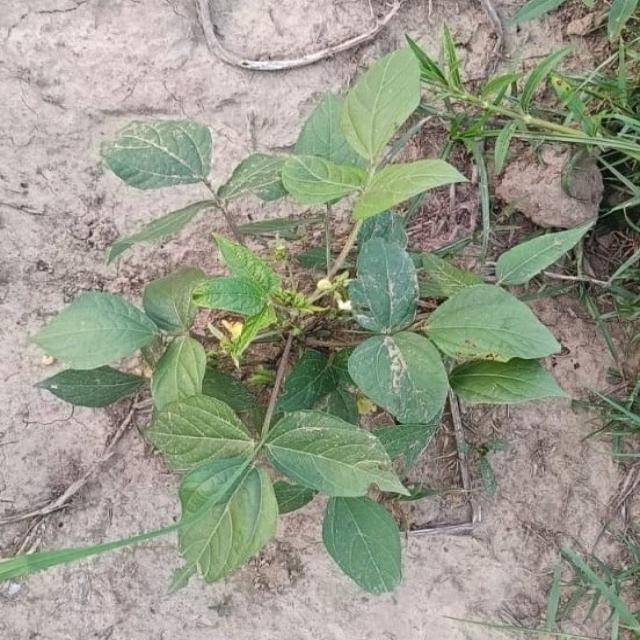plant: (34, 48, 589, 593)
